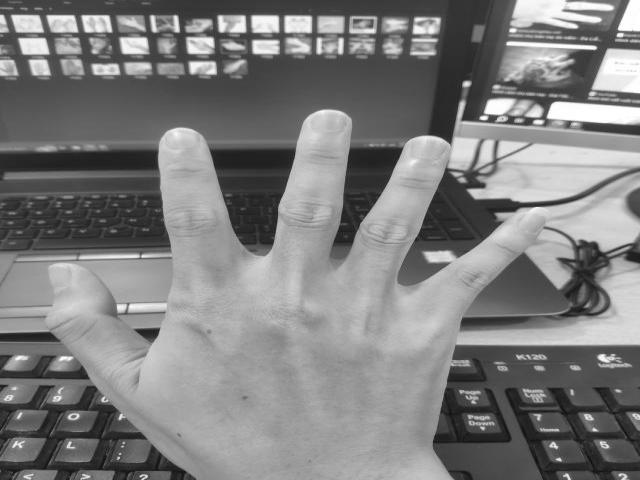not-gloved: (46, 109, 549, 480)
